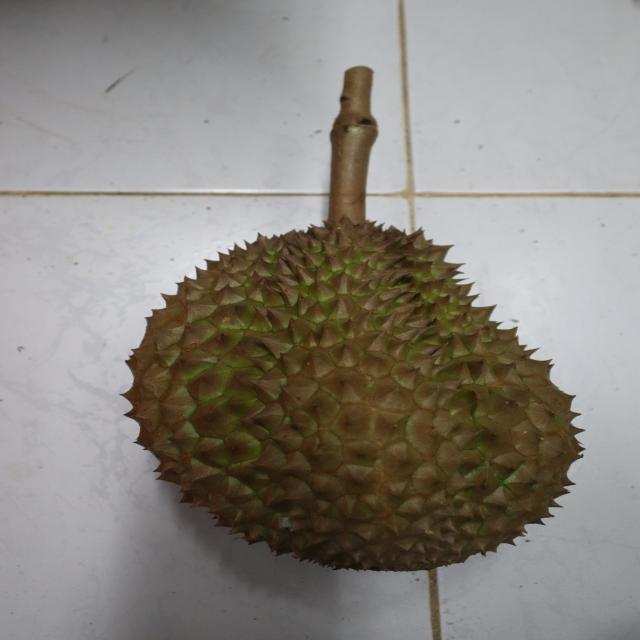mature: (115, 218, 588, 576)
